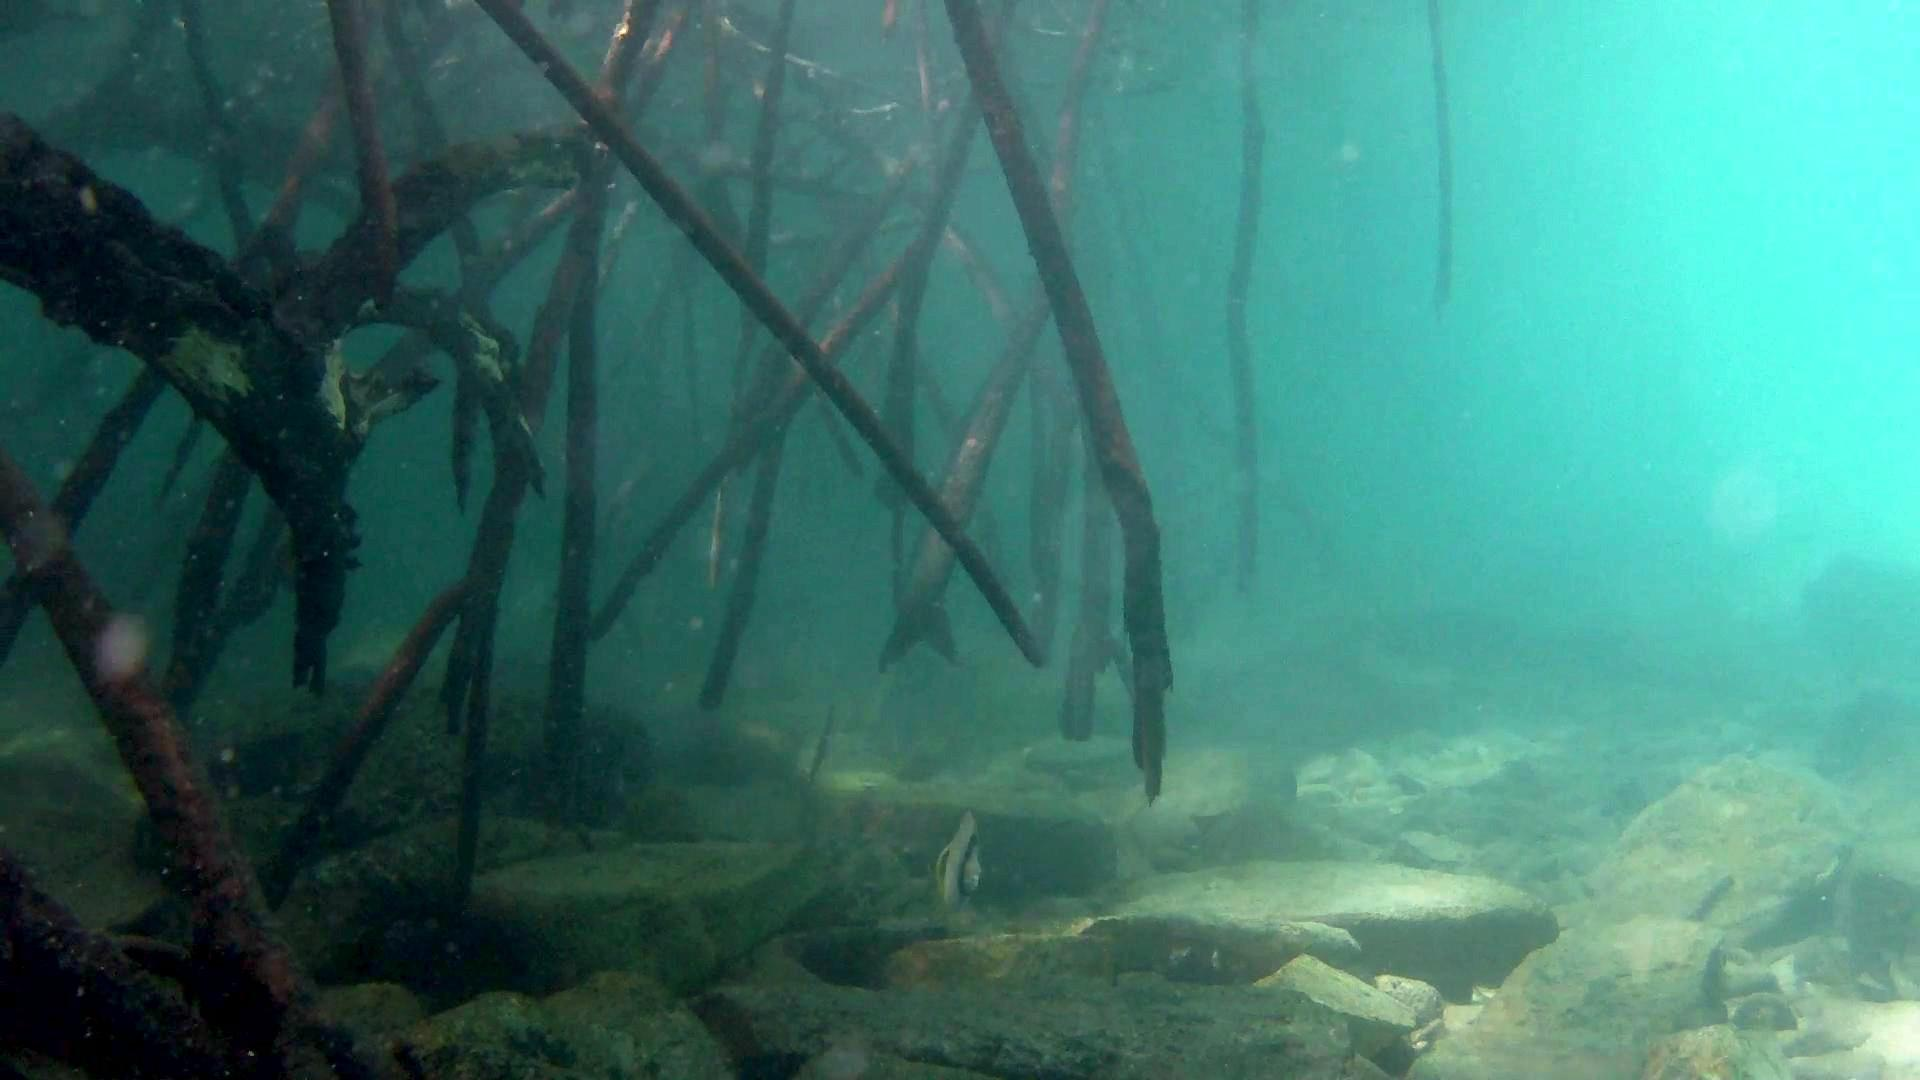chaetodon vagabundus: (930, 811, 990, 915)
